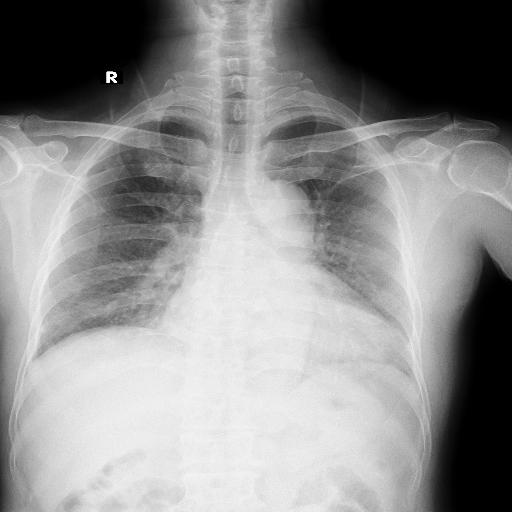Aortic enlargement: (210, 146, 279, 211)
Cardiomegaly: (42, 254, 279, 329)
Lung Opacity: (116, 146, 128, 158)
Pleural thickening: (84, 88, 164, 112), (233, 97, 307, 115)
